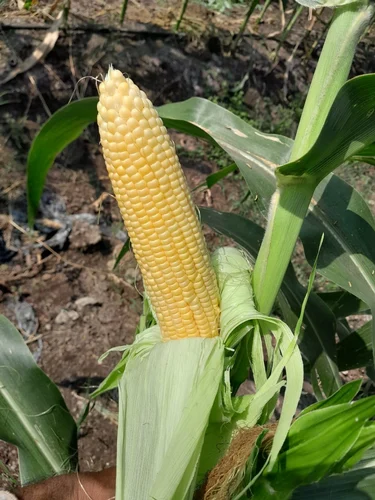corn: (80, 54, 233, 368)
